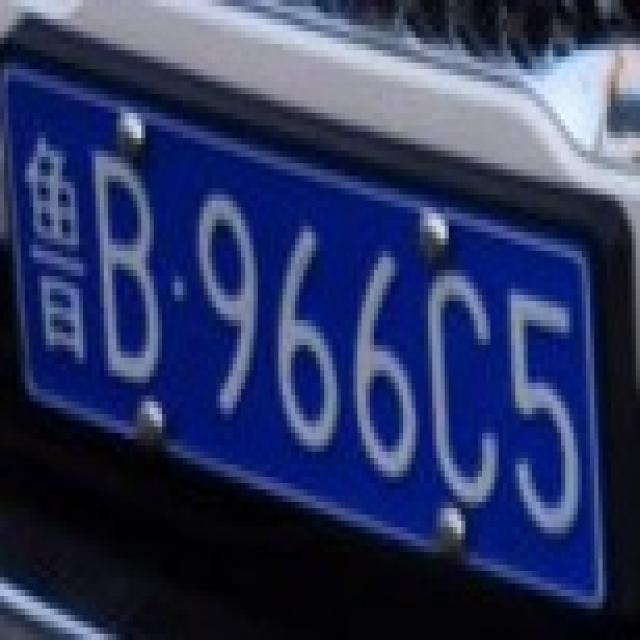5: (494, 257, 590, 527)
6: (336, 213, 424, 477), (258, 194, 346, 446)
9: (179, 163, 262, 414)
B: (75, 126, 166, 377)
C: (407, 238, 503, 502)
